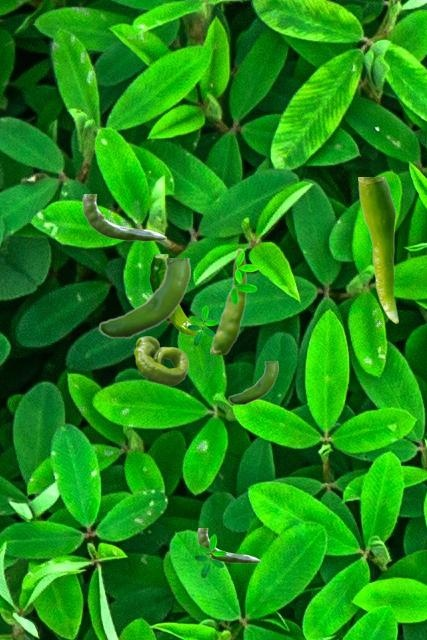green_chili: (98, 258, 189, 338), (358, 177, 397, 322), (82, 194, 165, 240), (210, 247, 246, 353), (149, 254, 196, 335), (134, 336, 187, 384), (197, 528, 259, 562), (228, 361, 277, 404)
